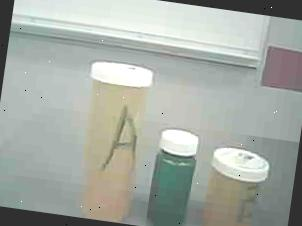Bottle A: (67, 56, 158, 225)
Bottle B: (197, 141, 276, 226)
Bottle C: (144, 122, 204, 226)
